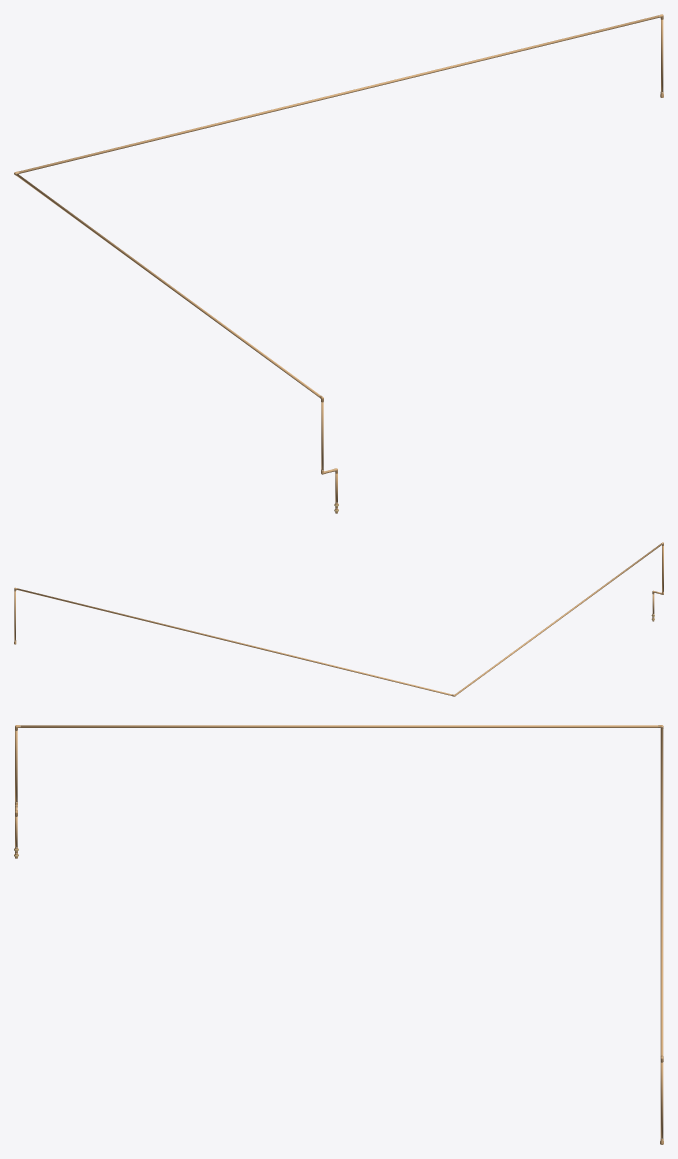
Rendered from slab_pipes_supply__water-well_and_softener-yes_and_flowsmart-yes_and_plumbing-copper.glb.
3 views of the same model, one above another, from view 1: azimuth 30°, elevation 25°; view 2: azimuth 150°, elevation 25°; view 3: azimuth 270°, elevation 25° (orthographic). The views are drawn at different scales.
Visible parts, largest first — view 1: pipe_supply_well_to_softener_fs__copper; view 2: pipe_supply_well_to_softener_fs__copper; view 3: pipe_supply_well_to_softener_fs__copper.
Part boxes in pixels (box(x1,y1,x2,y2)): pipe_supply_well_to_softener_fs__copper: box(16, 15, 663, 502); pipe_supply_well_to_softener_fs__copper: box(14, 543, 663, 695); pipe_supply_well_to_softener_fs__copper: box(15, 725, 663, 1138).
Size of the model in its own units: 6.45 by 1.13 by 5.31.
